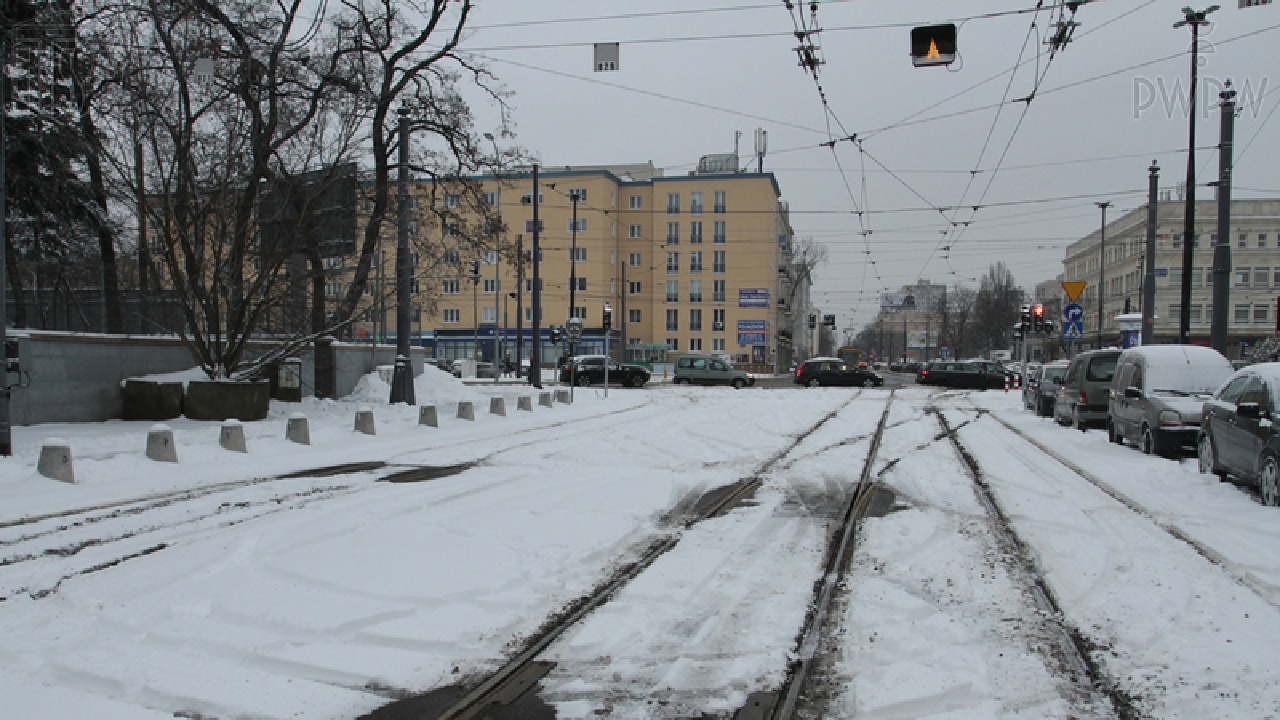A7: (1058, 279, 1091, 302)
C2: (1062, 302, 1085, 323)
D6: (1062, 323, 1088, 344)
